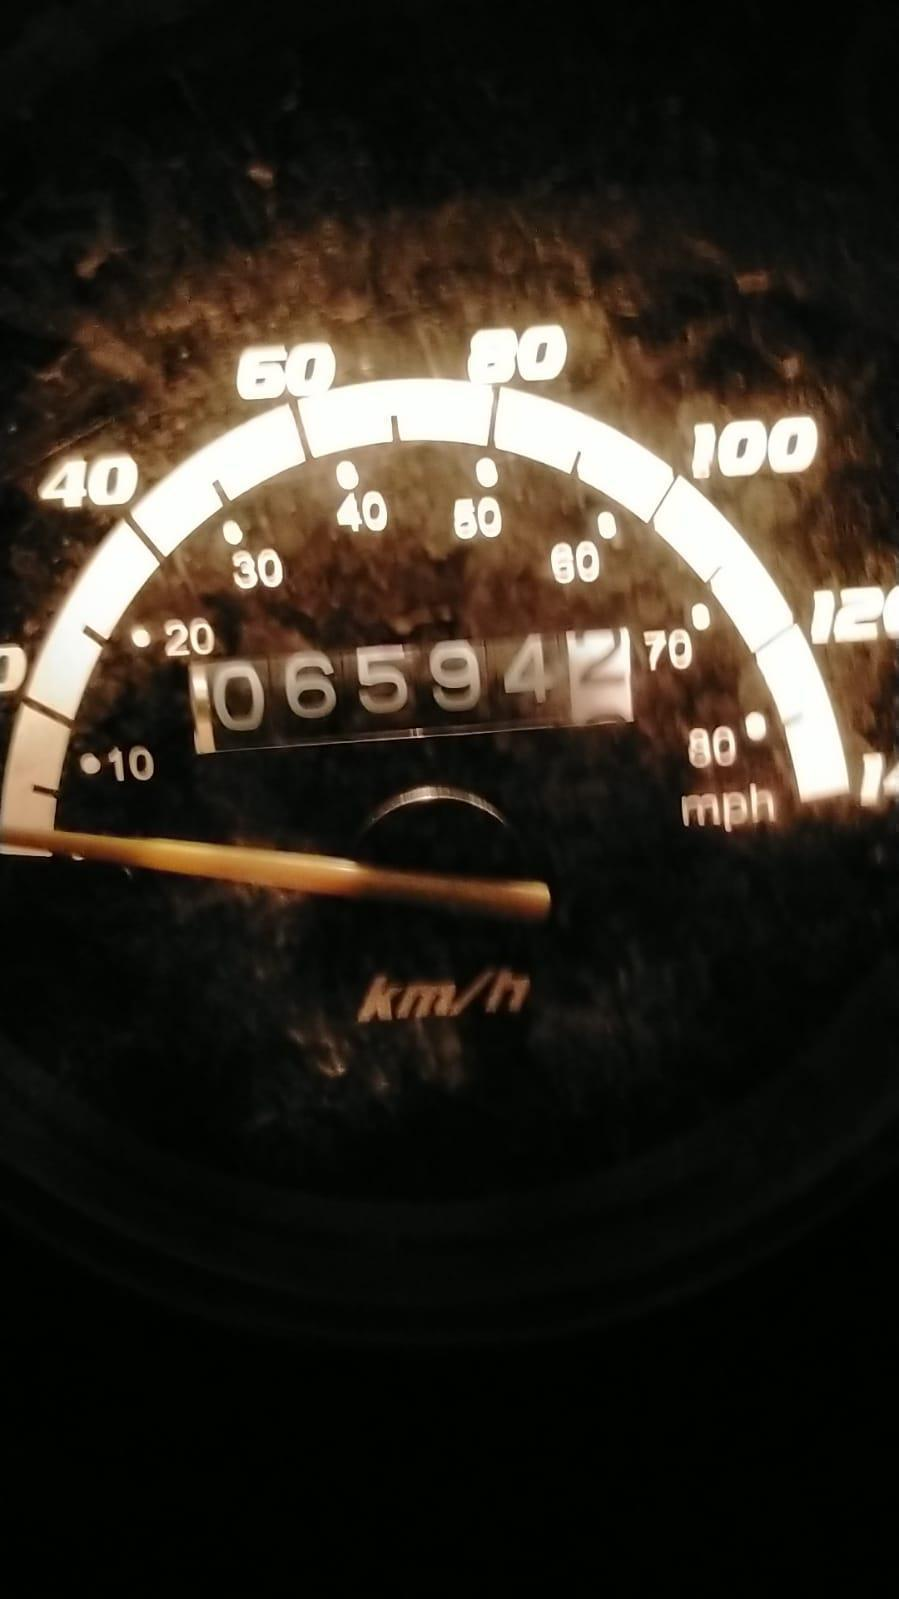0: (211, 657, 268, 733), (190, 616, 216, 655)
2: (572, 626, 627, 691)
4: (503, 630, 557, 711)
5: (353, 639, 409, 714)
6: (281, 648, 338, 720)
9: (423, 636, 484, 714)
odometer: (183, 623, 640, 758)
